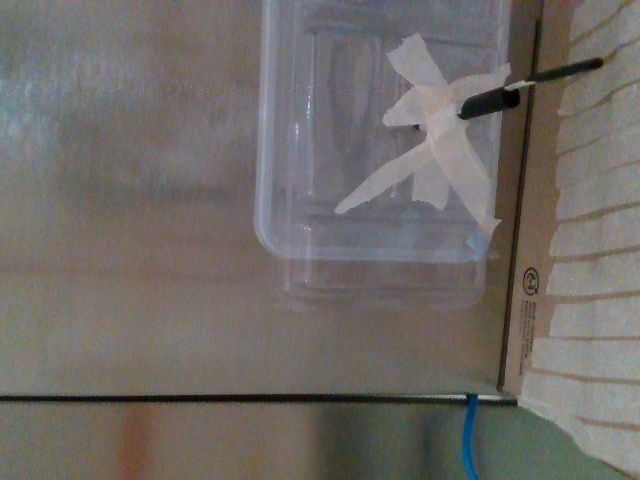test_strip: (501, 55, 603, 92)
